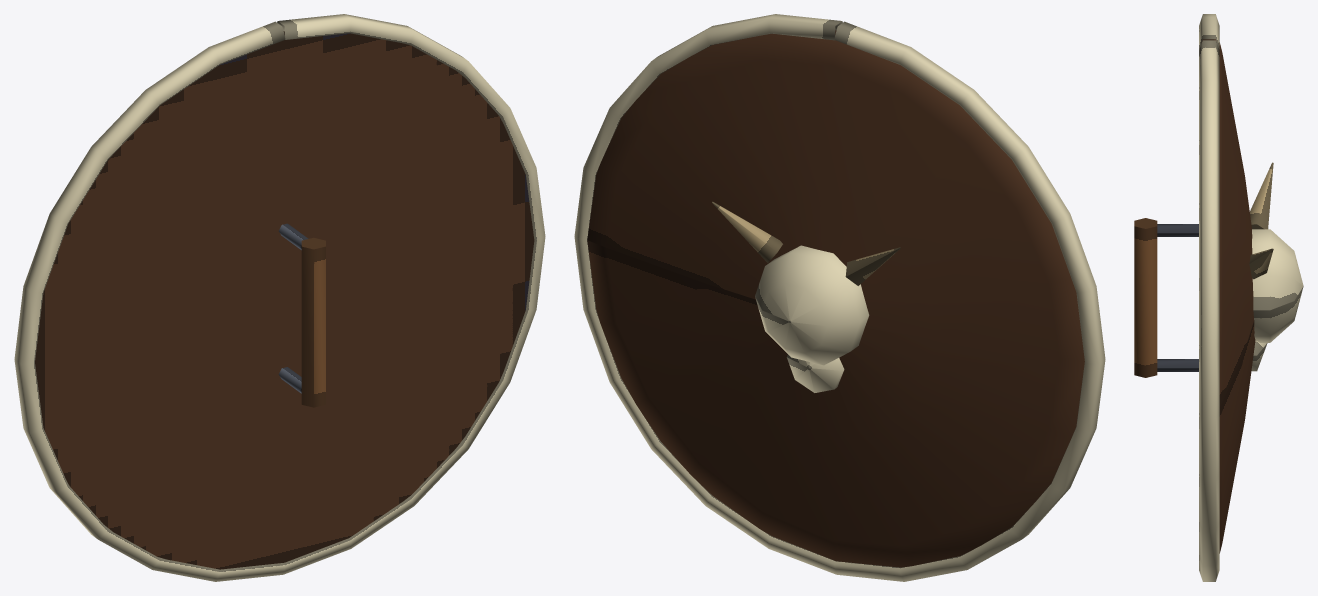
The model's file is skull_boss.glb.
3 renders of one model, left to right at view 1: azimuth 30°, elevation 25°; view 2: azimuth 150°, elevation 25°; view 3: azimuth 270°, elevation 25°, orthographic. The views are drawn at different scales.
Parts seen in each view (by area): view 1: skull_boss; view 2: skull_boss; view 3: skull_boss.
Part boxes in pixels (x1=…): skull_boss: x1=14, y1=14, x2=545, y2=581; skull_boss: x1=574, y1=14, x2=1105, y2=581; skull_boss: x1=1134, y1=14, x2=1303, y2=581.
Size of the model in its own units: 0.5202 by 0.5201 by 0.1544.
Materials: 1 (1 with a texture image).
